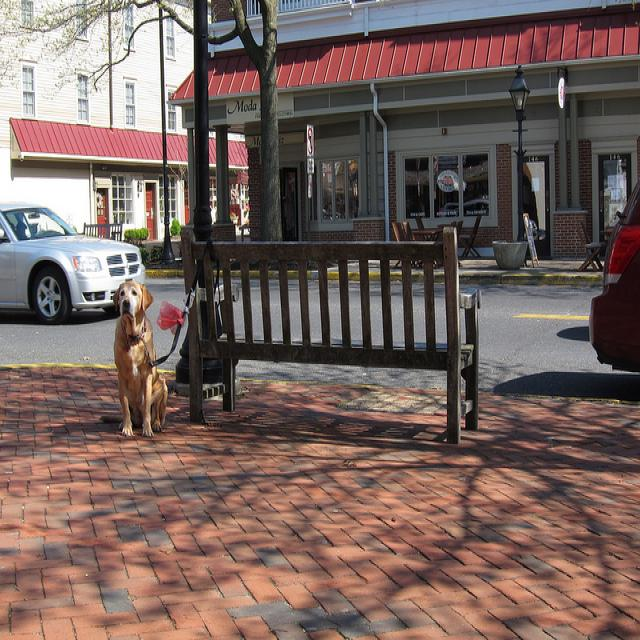Vehicle: (1, 201, 148, 321), (588, 184, 639, 377)
